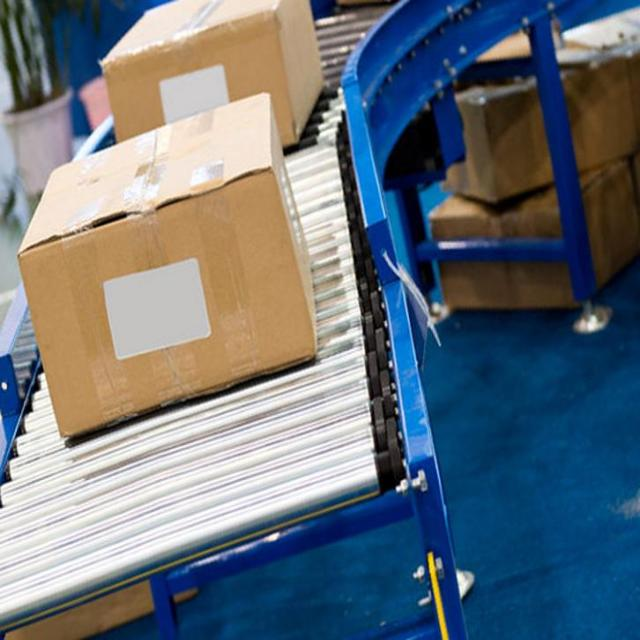food: (15, 89, 319, 441), (96, 0, 325, 152)
